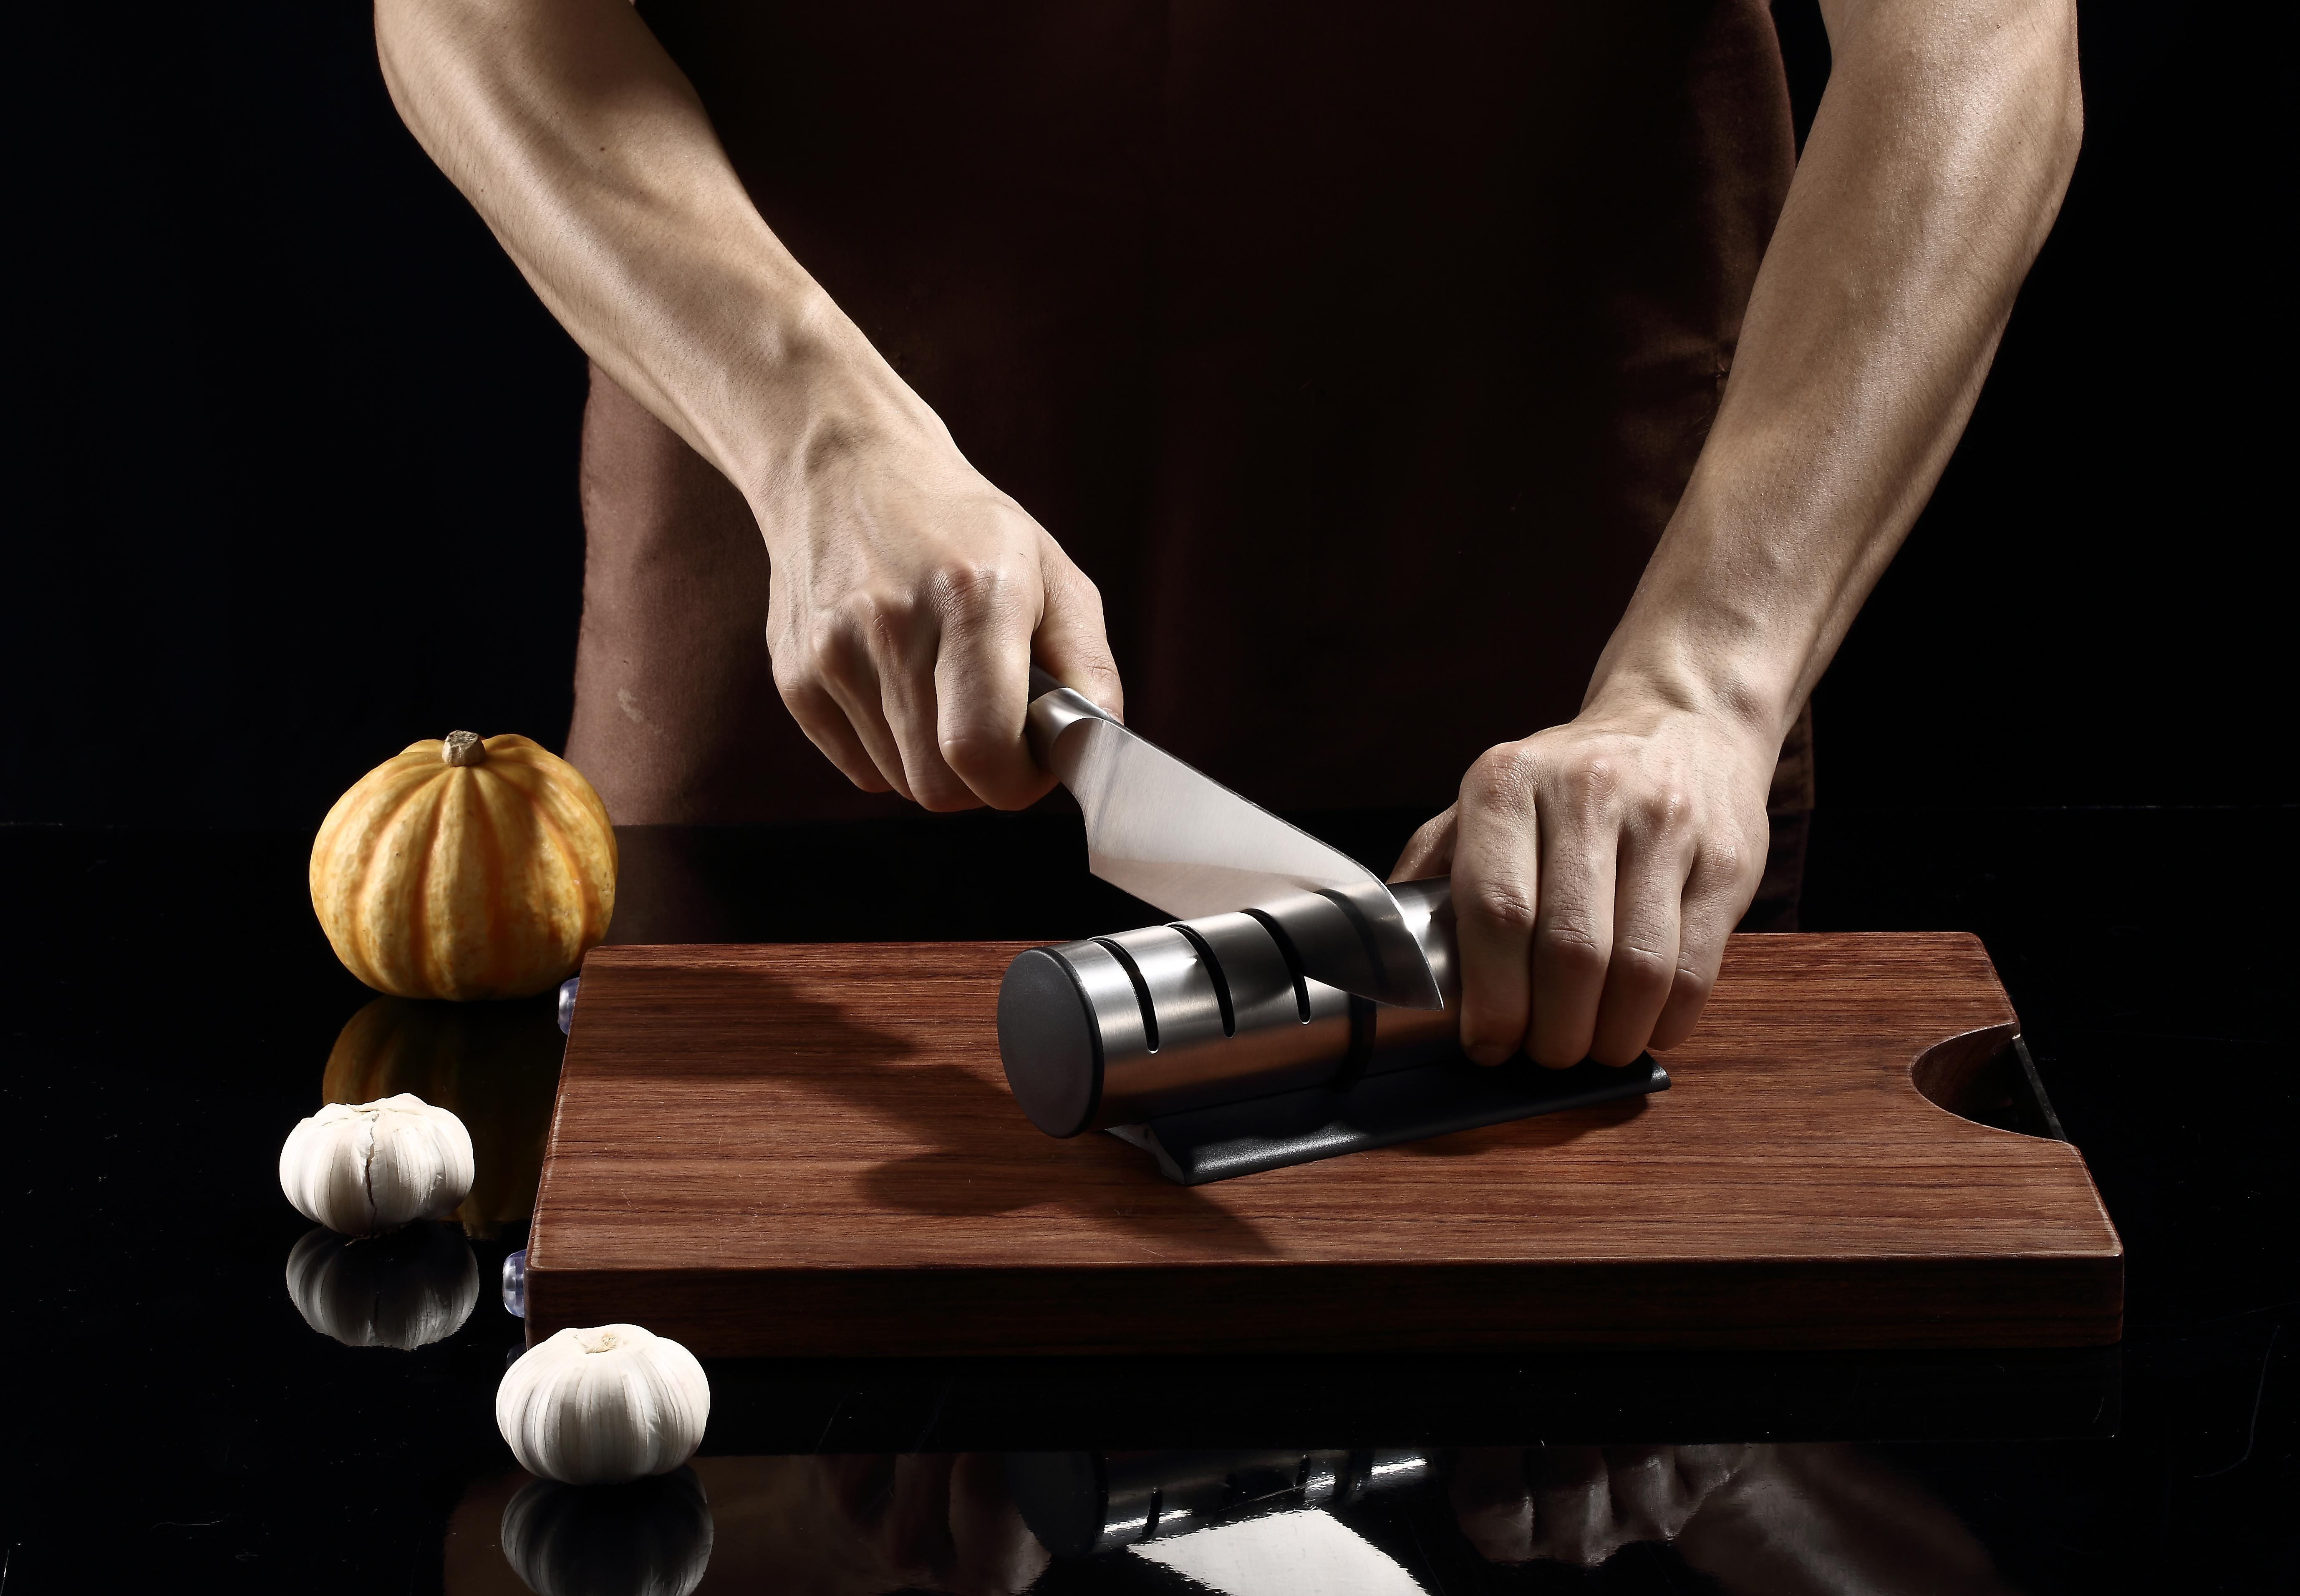knife: (785, 626, 1590, 1145)
